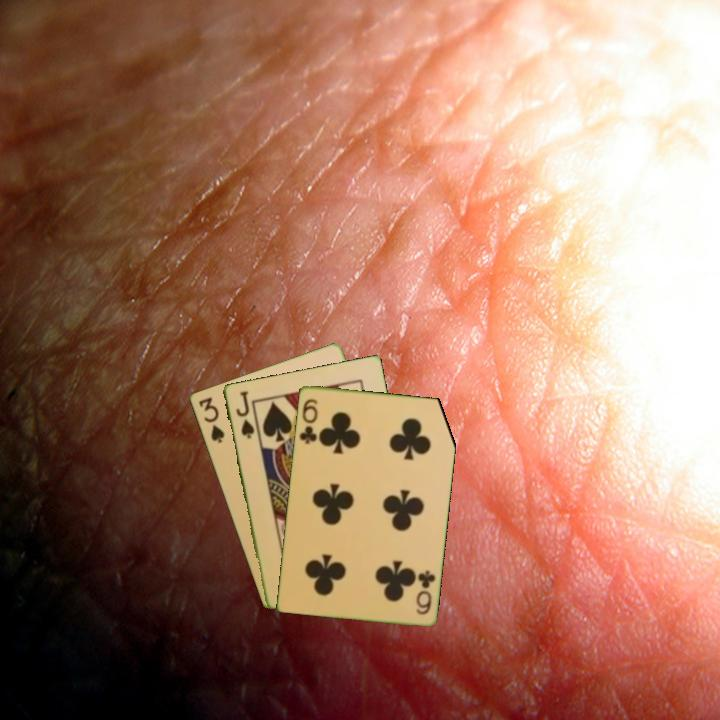3s: (195, 393, 227, 446)
6c: (296, 395, 321, 447), (412, 567, 438, 617)
Js: (232, 388, 257, 441)
